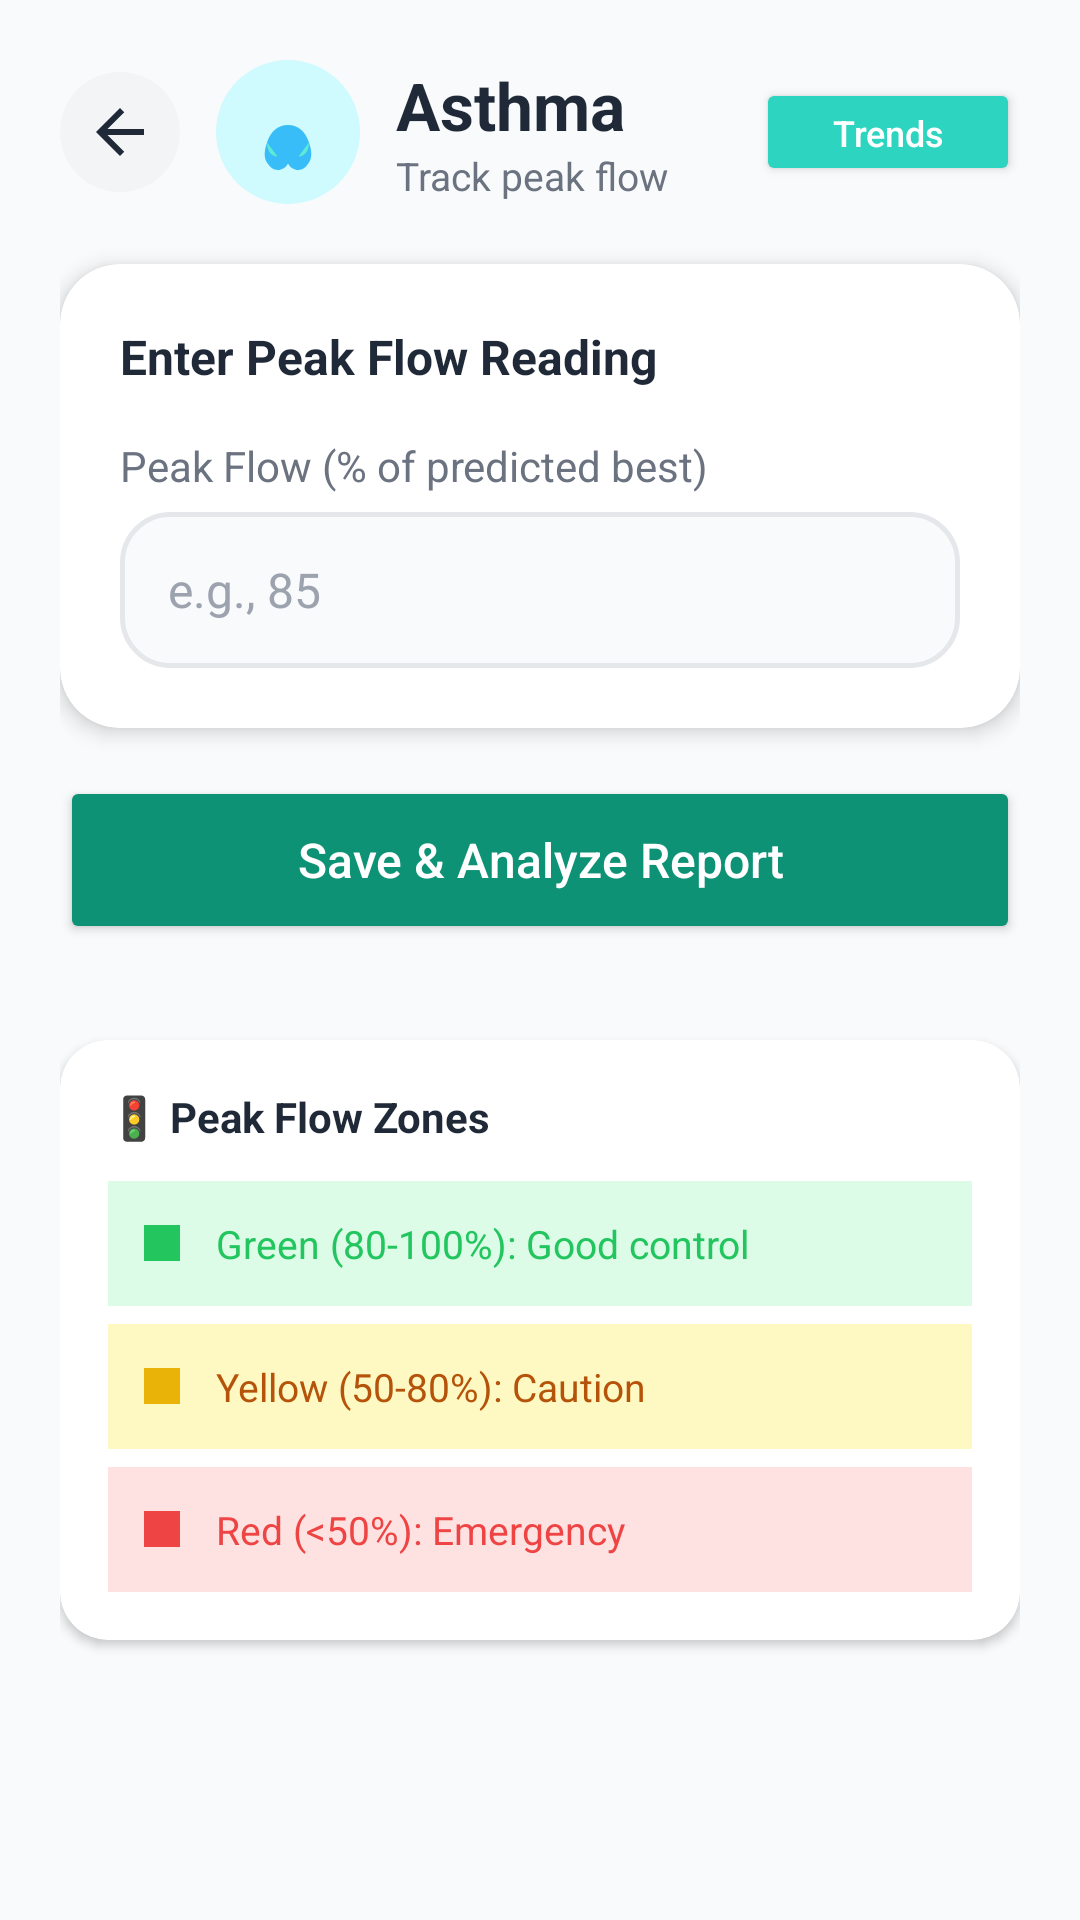

Icon bounding boxes for this 1080×1920 phone screenshot, format detection(x1, y1, x2, y2):
Back: detection(96, 108, 144, 156)
health lungs: detection(264, 125, 312, 170)
